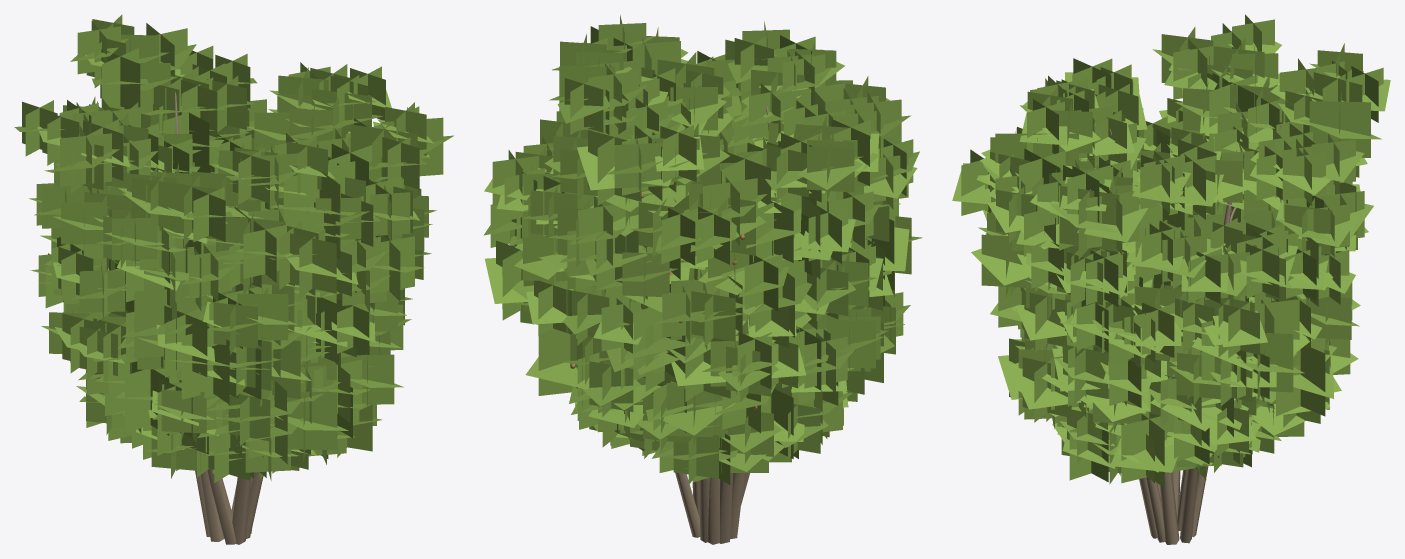
File: noisetier_3_f2_jeu.glb
3 renders of one model, left to right at view 1: azimuth 30°, elevation 25°; view 2: azimuth 150°, elevation 25°; view 3: azimuth 270°, elevation 25°, orthographic. The views are drawn at different scales.
Parts seen in each view (by area): view 1: Noisetier_T3_f2_Leger; view 2: Noisetier_T3_f2_Leger; view 3: Noisetier_T3_f2_Leger.
Part boxes in pixels (box(x1,y1,x2,y2)): Noisetier_T3_f2_Leger: box(14, 14, 453, 544); Noisetier_T3_f2_Leger: box(483, 15, 922, 544); Noisetier_T3_f2_Leger: box(952, 14, 1390, 544).
Size of the model in its own units: 4.78 by 5.8 by 4.99.
